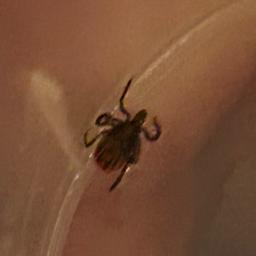Ixodes scapularis: (82, 75, 161, 193)
